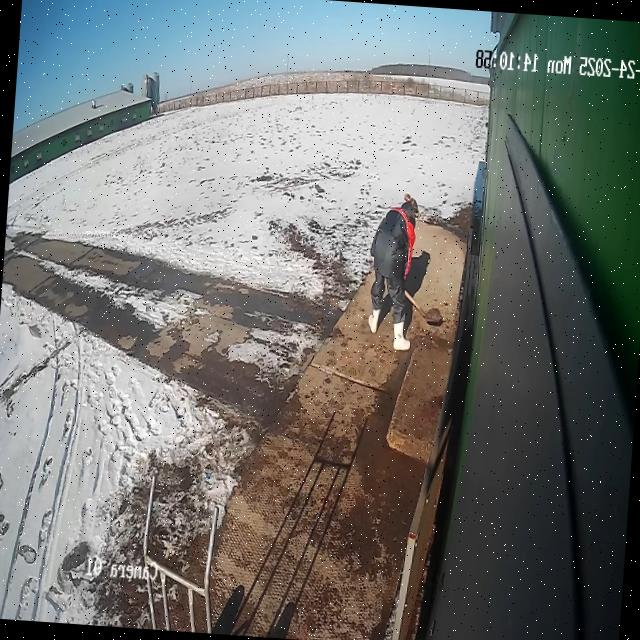Red uniform: (362, 189, 424, 354)
